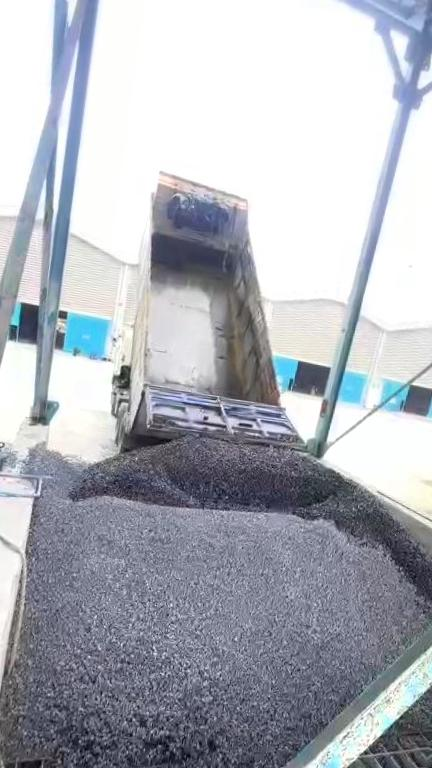gravel: (0, 441, 432, 768), (71, 437, 432, 602), (362, 684, 432, 754)
sand: (421, 479, 432, 534)
